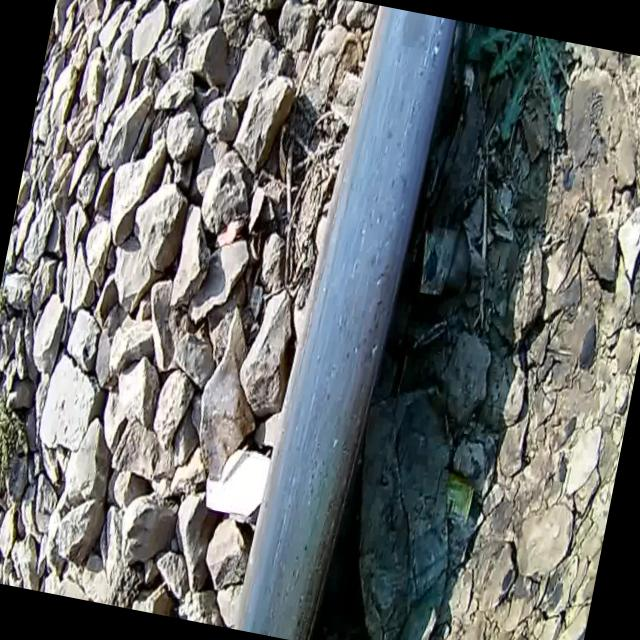Squats: (216, 0, 475, 640)
